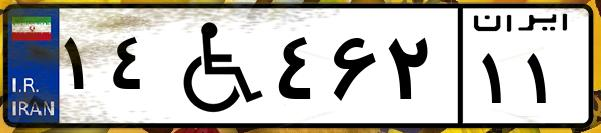1: (57, 26, 110, 100), (475, 38, 525, 113), (525, 38, 570, 115)
2: (385, 28, 445, 110)
4: (270, 28, 330, 110), (110, 28, 158, 98)
6: (330, 28, 385, 110)
ژ (معلولین و جانبازان): (158, 12, 270, 120)
